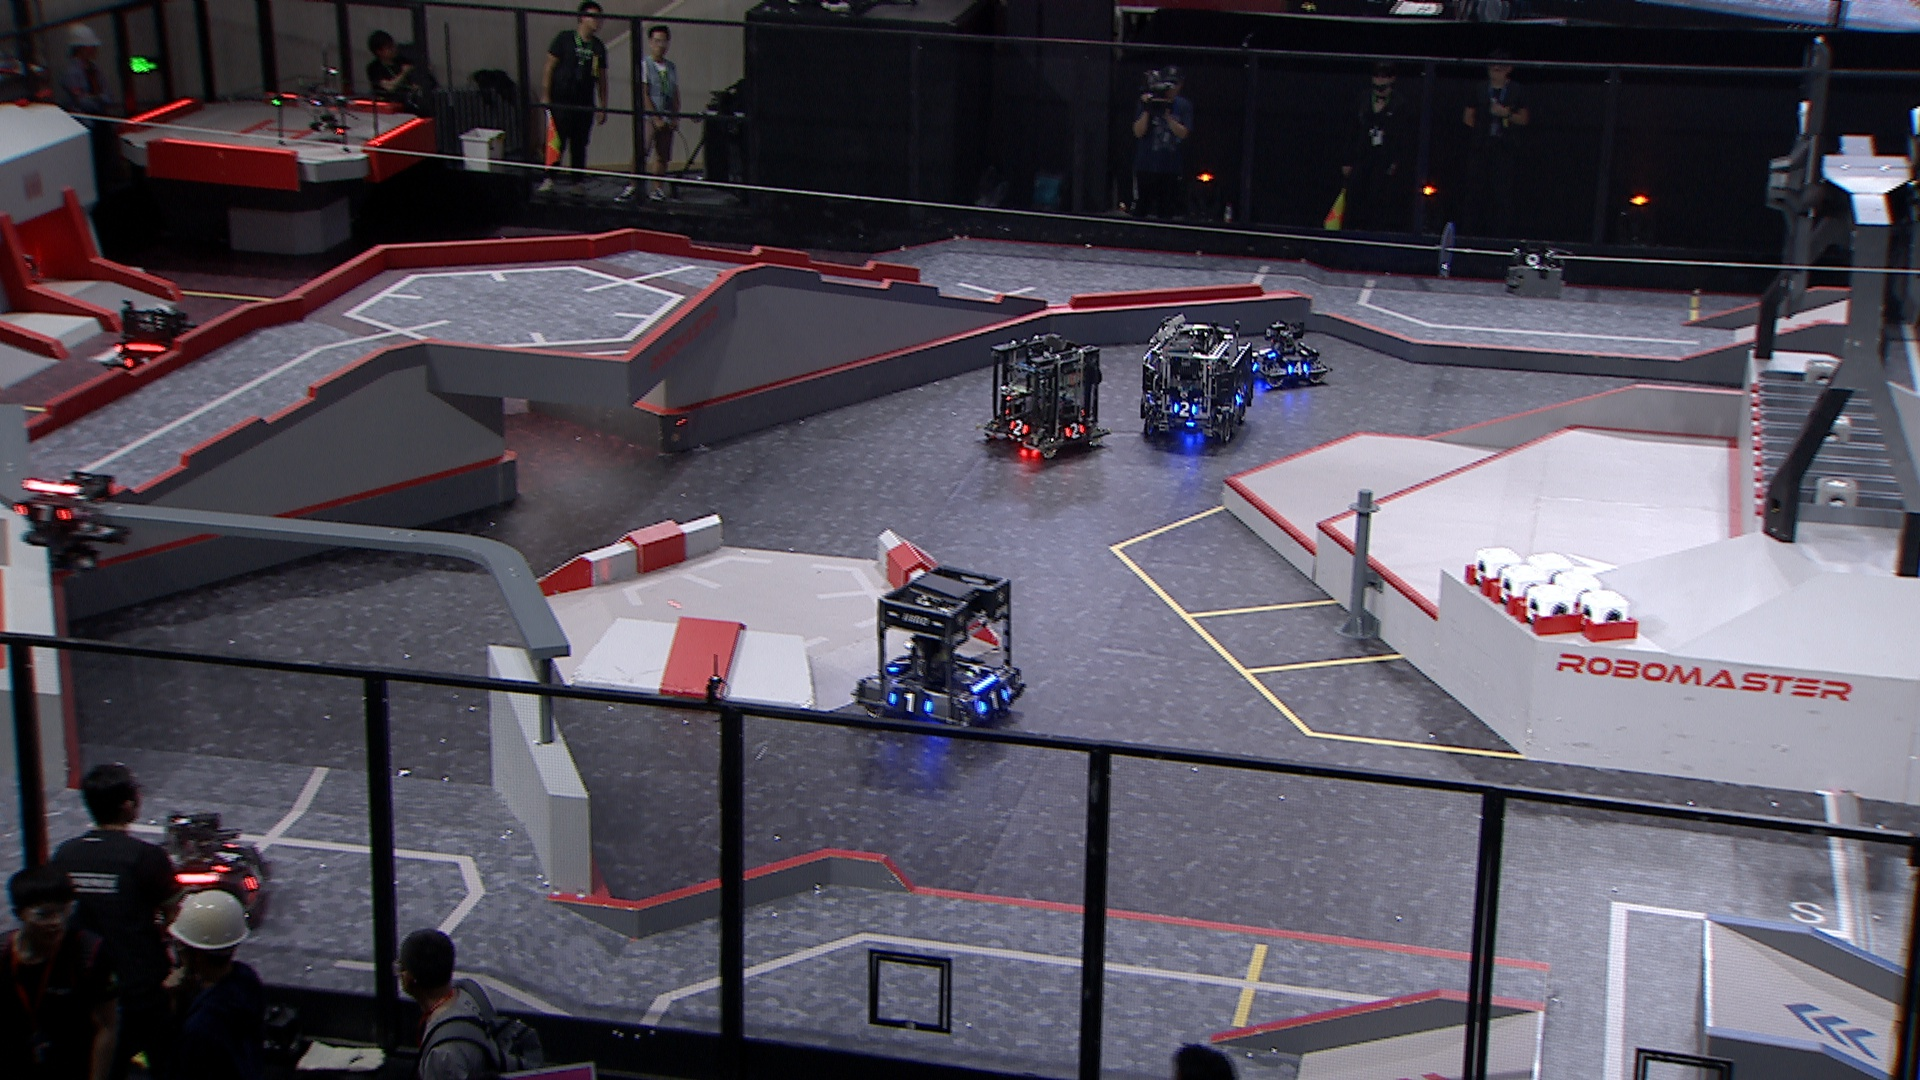armor: (12, 498, 73, 526), (885, 690, 934, 716), (210, 841, 244, 874), (975, 688, 1011, 713), (244, 861, 272, 894), (884, 655, 911, 676), (1060, 419, 1087, 439), (1171, 400, 1199, 418), (1005, 418, 1027, 438), (123, 357, 153, 371), (1284, 363, 1309, 377), (1234, 386, 1247, 407), (1255, 345, 1276, 357)
car: (851, 567, 1027, 736), (978, 334, 1112, 462), (1135, 316, 1255, 447), (140, 811, 276, 924), (102, 297, 200, 390), (1247, 322, 1329, 392)
watcher: (11, 469, 127, 572)
